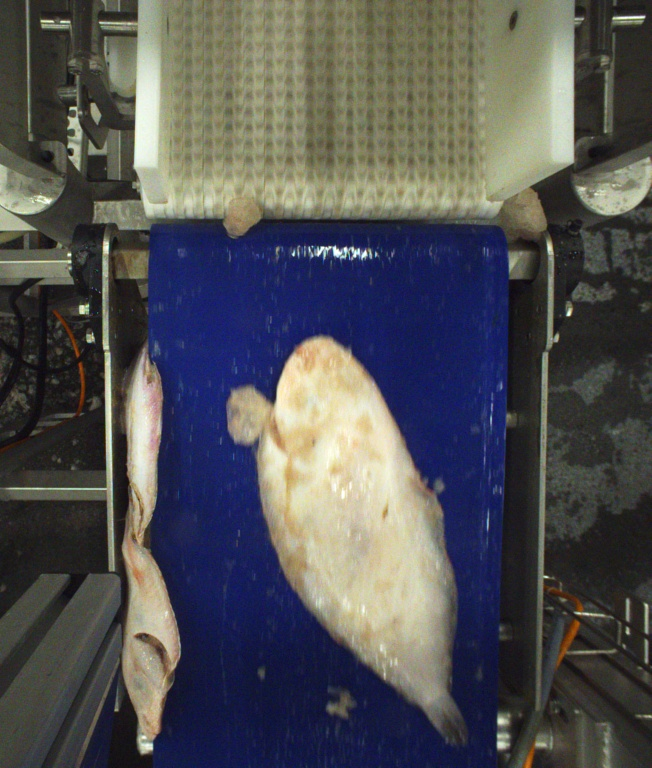SOL: (257, 334, 468, 748)
